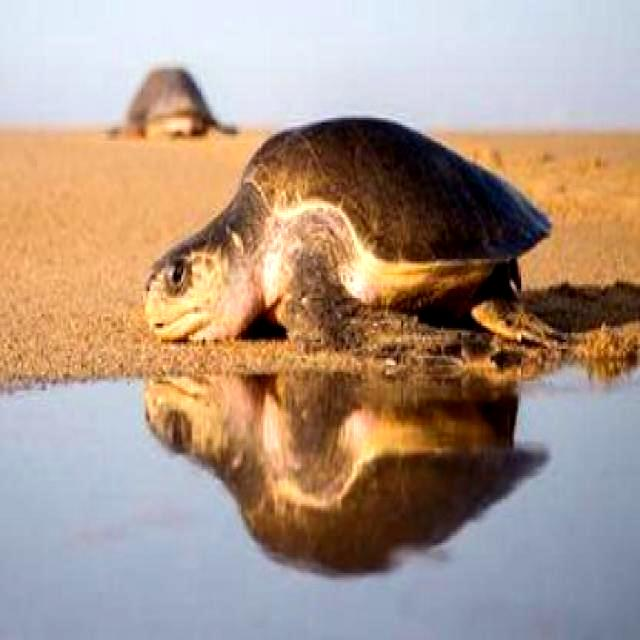Sea turtle: (146, 110, 572, 359)
